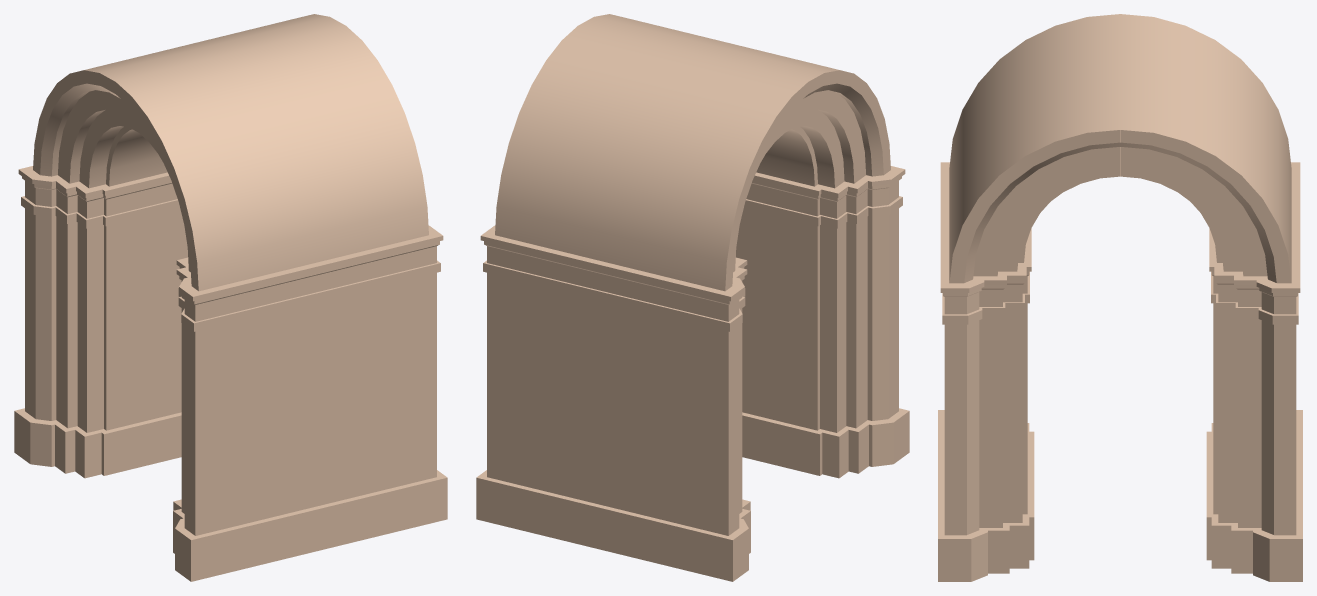
Rendered from BC_DoorFrame_A.fbx.
3 renders of one model, left to right at view 1: azimuth 30°, elevation 25°; view 2: azimuth 150°, elevation 25°; view 3: azimuth 270°, elevation 25°, orthographic. The views are drawn at different scales.
Parts seen in each view (by area): view 1: BC_DoorFrame_A; view 2: BC_DoorFrame_A; view 3: BC_DoorFrame_A.
Boxes of the visible parts, x1,y1,x2,y2 form: BC_DoorFrame_A: [14, 14, 447, 581]; BC_DoorFrame_A: [476, 14, 909, 581]; BC_DoorFrame_A: [938, 14, 1302, 581].
Size of the model in its own units: 700 by 1126 by 836.
